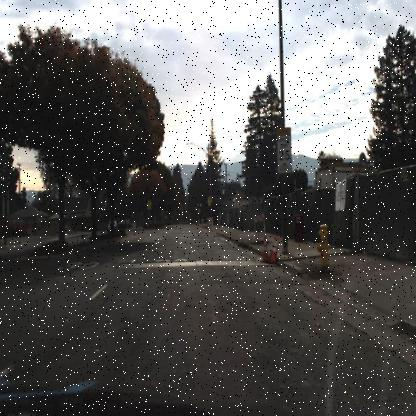car: (105, 220, 117, 230)
